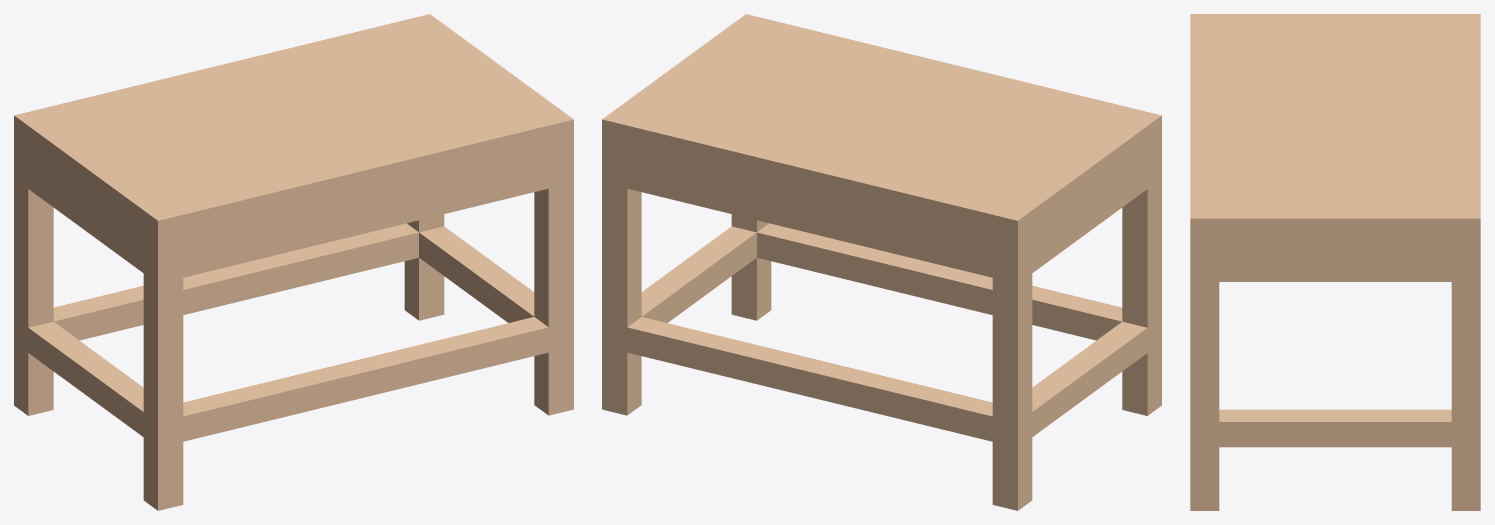
3 renders of one model, left to right at view 1: azimuth 30°, elevation 25°; view 2: azimuth 150°, elevation 25°; view 3: azimuth 270°, elevation 25°, orthographic.
Visible parts, largest first — view 1: side-table-low-body, side-table-top; view 2: side-table-low-body, side-table-top; view 3: side-table-top, side-table-low-body.
Part boxes in pixels (box(x1,y1,x2,y2)): side-table-low-body: box(14, 115, 573, 510); side-table-top: box(14, 14, 573, 220); side-table-low-body: box(602, 115, 1161, 510); side-table-top: box(602, 14, 1161, 220); side-table-top: box(1190, 14, 1480, 218); side-table-low-body: box(1190, 218, 1480, 510).
Bounding box in the file's own units: 0.75 × 0.5 × 0.45.
